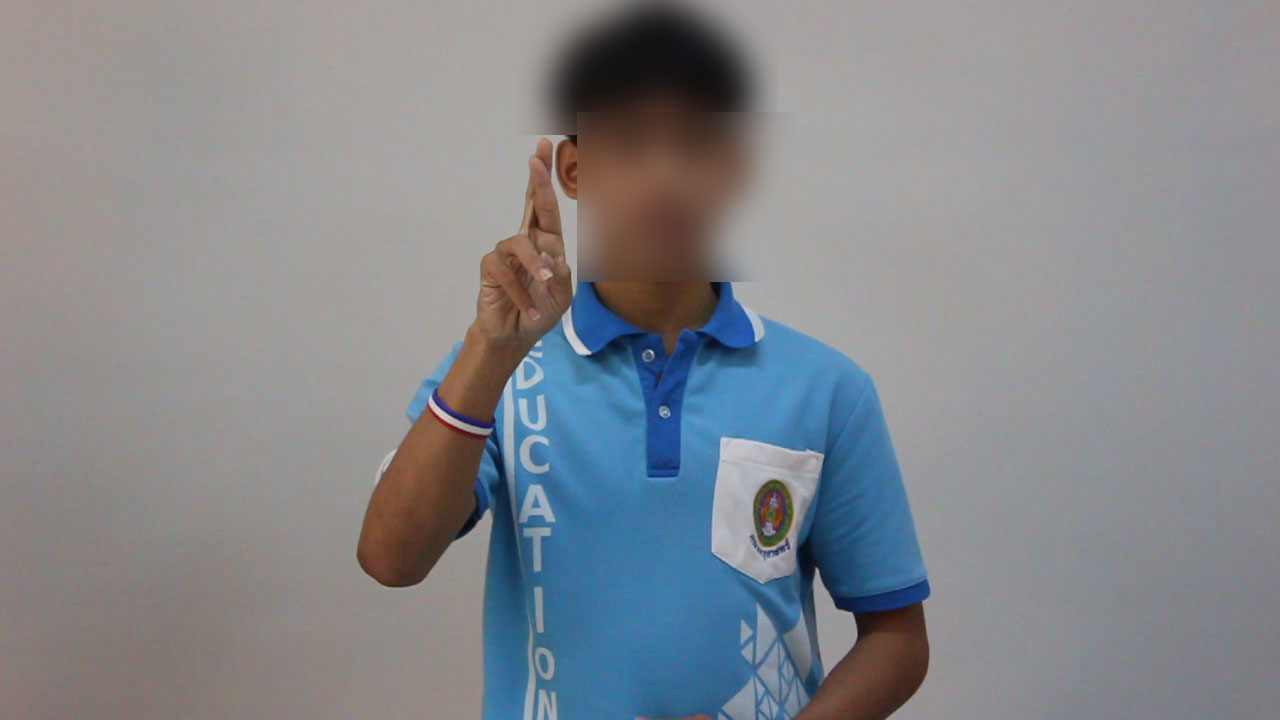rao: (455, 134, 584, 336)
